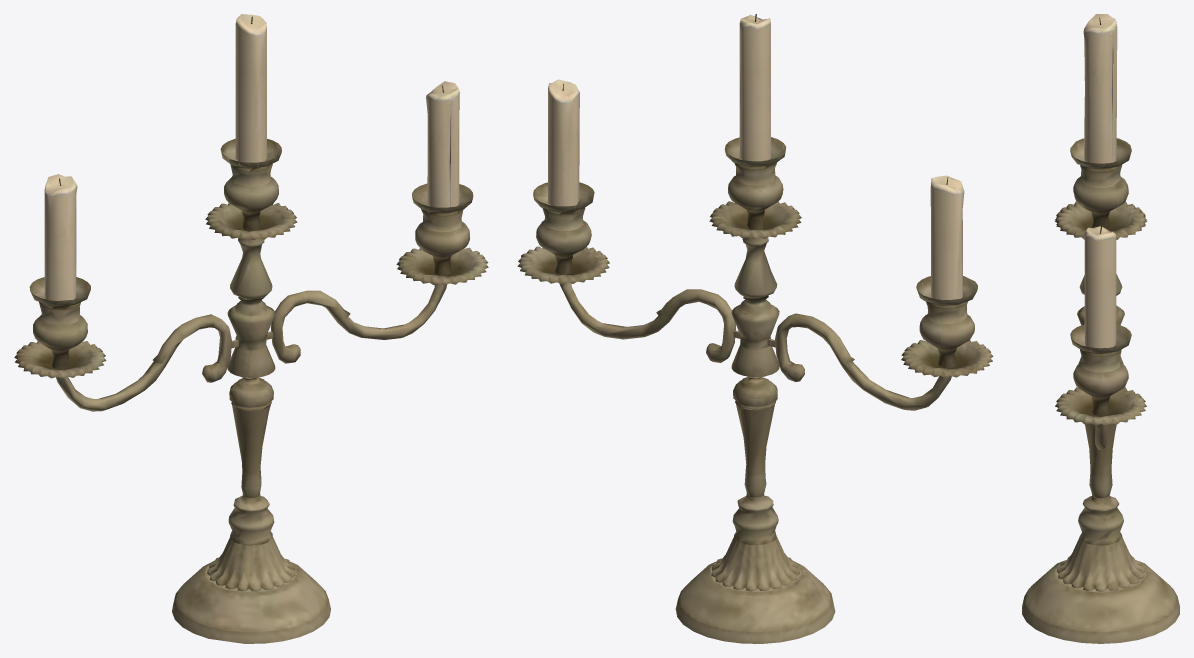
The model's file is candelabra.glb.
3 renders of one model, left to right at view 1: azimuth 30°, elevation 25°; view 2: azimuth 150°, elevation 25°; view 3: azimuth 270°, elevation 25°, orthographic.
Parts seen in each view (by area): view 1: A_Candelabra_M_Candelabra_0, A_Candle2_M_Candle_0; view 2: A_Candelabra_M_Candelabra_0, A_Candle2_M_Candle_0; view 3: A_Candelabra_M_Candelabra_0, A_Candle2_M_Candle_0.
Part boxes in pixels (<box>): A_Candelabra_M_Candelabra_0: <box>14,138,488,643</box>; A_Candle2_M_Candle_0: <box>44,14,459,300</box>; A_Candelabra_M_Candelabra_0: <box>517,137,993,643</box>; A_Candle2_M_Candle_0: <box>548,14,964,299</box>; A_Candelabra_M_Candelabra_0: <box>1022,138,1179,643</box>; A_Candle2_M_Candle_0: <box>1083,14,1117,348</box>.
Size of the model in its own units: 0.3105 by 0.3815 by 0.0921.
Materials: 2 (2 with a texture image).
